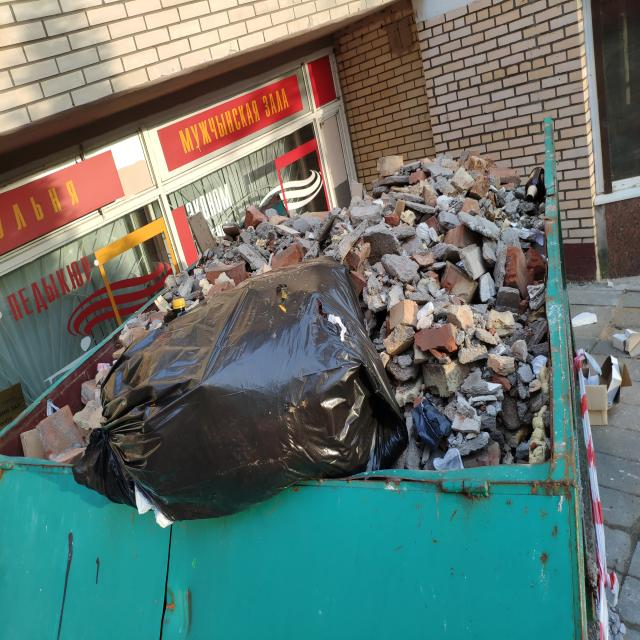entulho: (578, 348, 622, 428), (162, 518, 182, 638), (615, 328, 640, 352)
lixo domiciliar: (81, 263, 398, 532), (526, 166, 545, 204)
